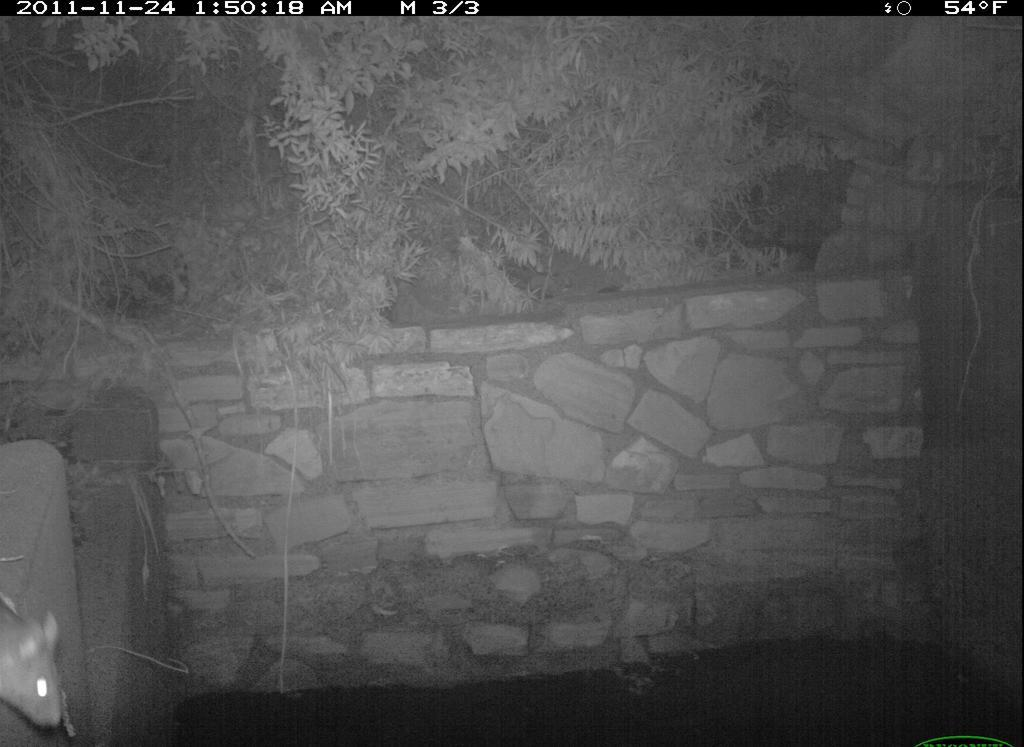rodent: (1, 600, 76, 745)
